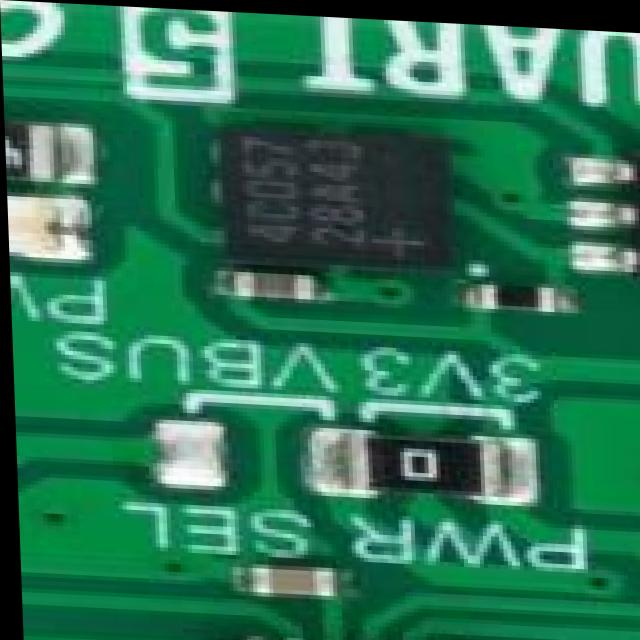IC: (211, 114, 451, 258), (556, 146, 640, 274), (166, 638, 511, 640)
LED: (5, 184, 75, 259)
capacitor: (236, 549, 349, 602), (193, 260, 324, 297)
resistor: (320, 419, 502, 496), (451, 266, 540, 310), (4, 124, 57, 178)
